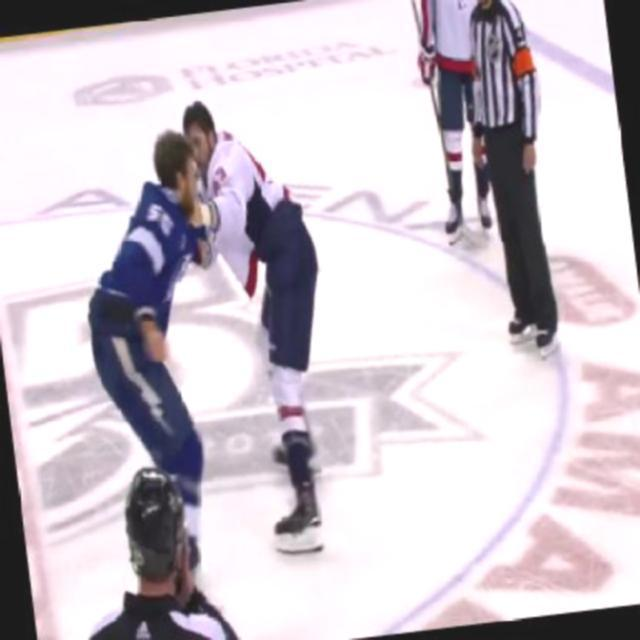fight: (66, 89, 345, 518)
non-fight: (449, 0, 578, 371)
